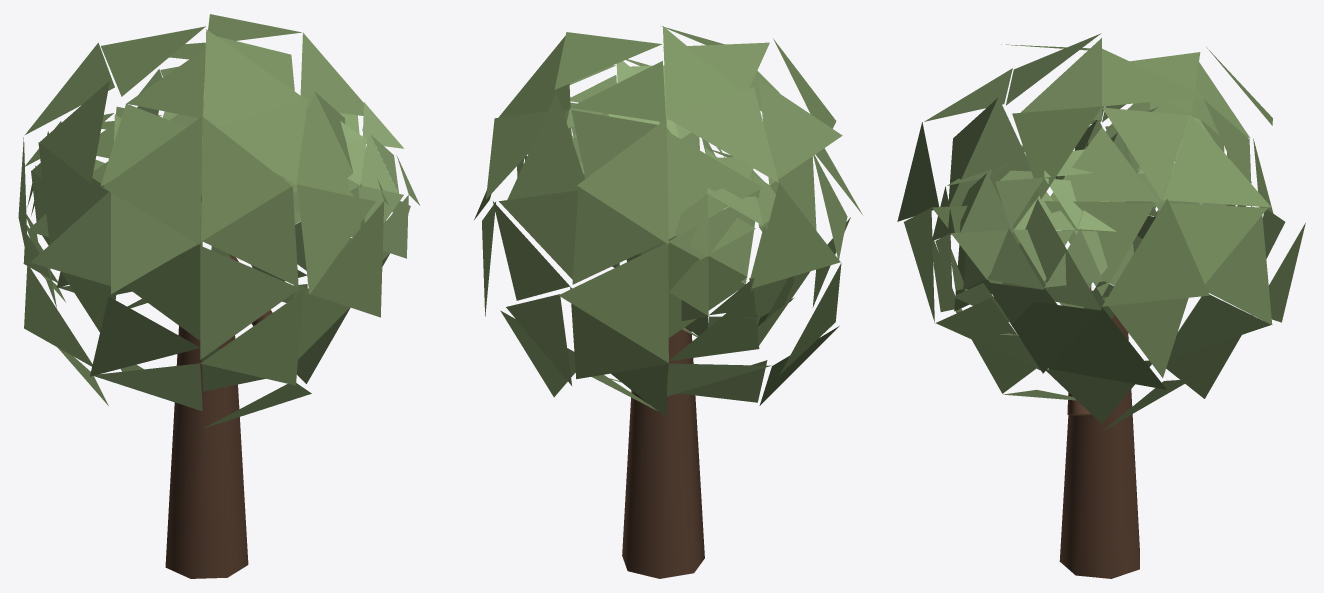
The model's file is olive.glb.
3 views of the same model, side by side, from view 1: azimuth 30°, elevation 25°; view 2: azimuth 150°, elevation 25°; view 3: azimuth 270°, elevation 25° (orthographic).
Visible parts, largest first — view 1: Olive; view 2: Olive; view 3: Olive.
Part boxes in pixels (<box>): Olive: <box>18,14,419,578</box>; Olive: <box>474,26,862,578</box>; Olive: <box>897,33,1305,578</box>.
Bounding box in the file's own units: 2.16 × 3.05 × 2.15.
